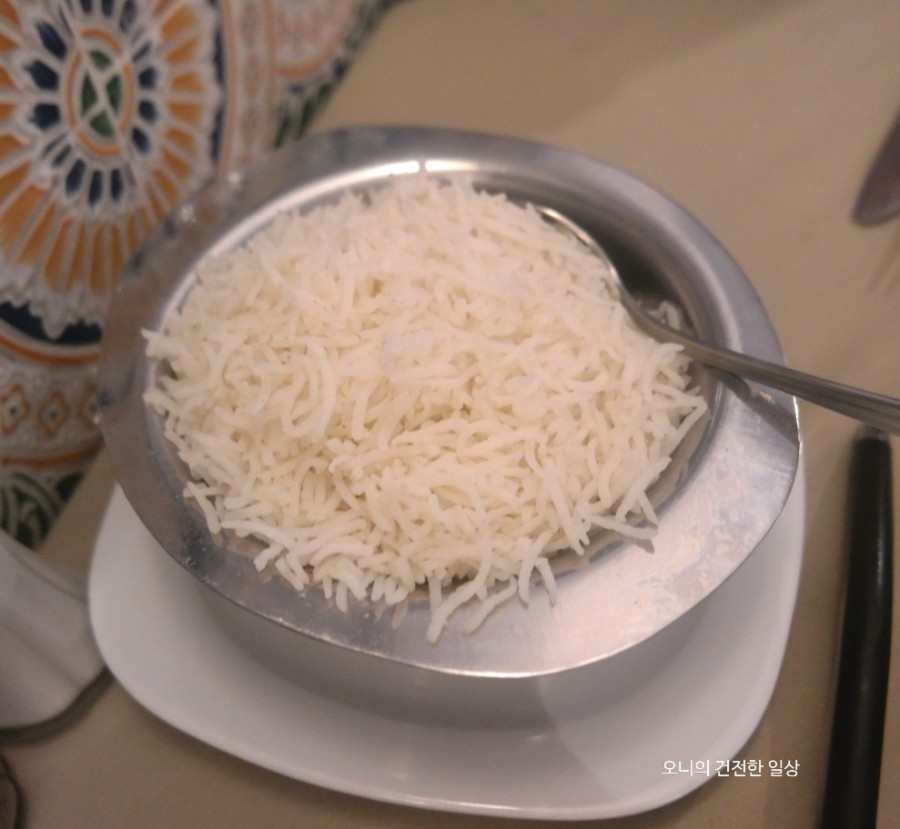plain rice: (235, 229, 654, 564)
